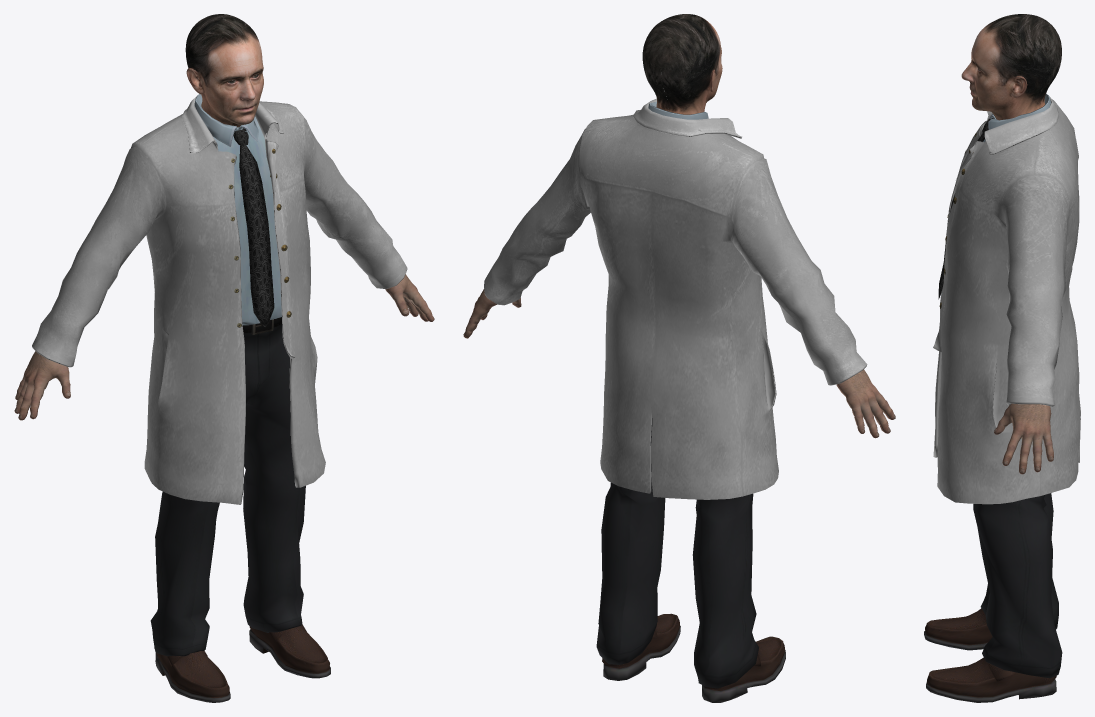
The picture shows the model from 3 angles, left to right: view 1: azimuth 30°, elevation 25°; view 2: azimuth 150°, elevation 25°; view 3: azimuth 270°, elevation 25°; orthographic projection. The views are drawn at different scales.
Visible parts, largest first — view 1: body, legs, head; view 2: body, legs, head; view 3: body, legs, head.
Part boxes in pixels (x1,y1,x2,y2): body: (14, 94, 434, 504); legs: (150, 317, 330, 702); head: (185, 14, 263, 127); body: (463, 98, 895, 499); legs: (596, 418, 785, 702); head: (642, 14, 722, 114); body: (933, 94, 1080, 504); legs: (924, 493, 1062, 702); head: (961, 14, 1061, 120).
Size of the model in its own units: 1.24 by 1.86 by 0.4078.
Materials: 5 (5 with a texture image).
